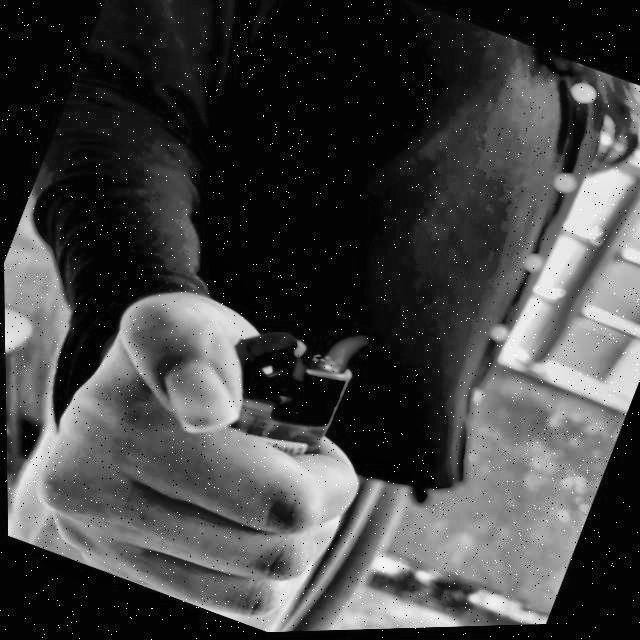Fire: (314, 318, 383, 385)
